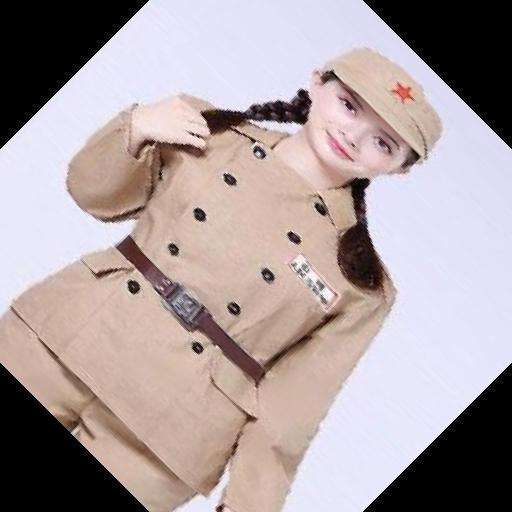north army: (116, 53, 465, 506)
